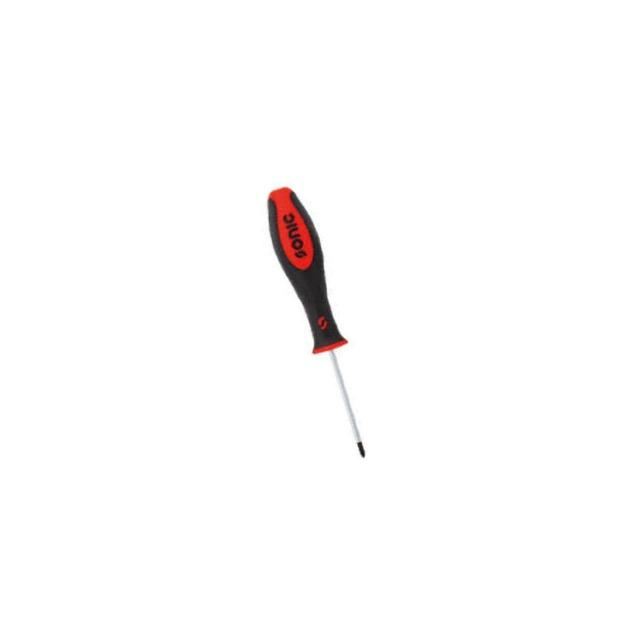screwdriver: (181, 180, 460, 459)
